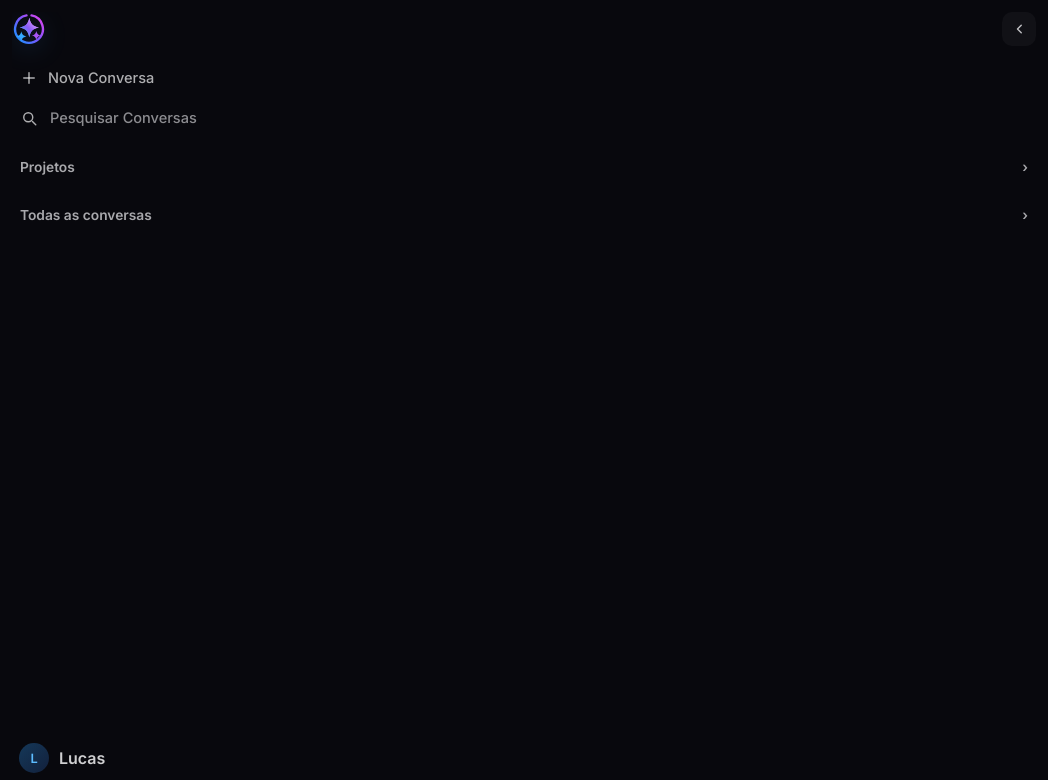
Test: SessionsPanel › abre menu do usuário com itens esperados e fecha por Esc e click outside
Click the button with aria-label "Menu do usuário": (82,758) [12,736,1026,779]
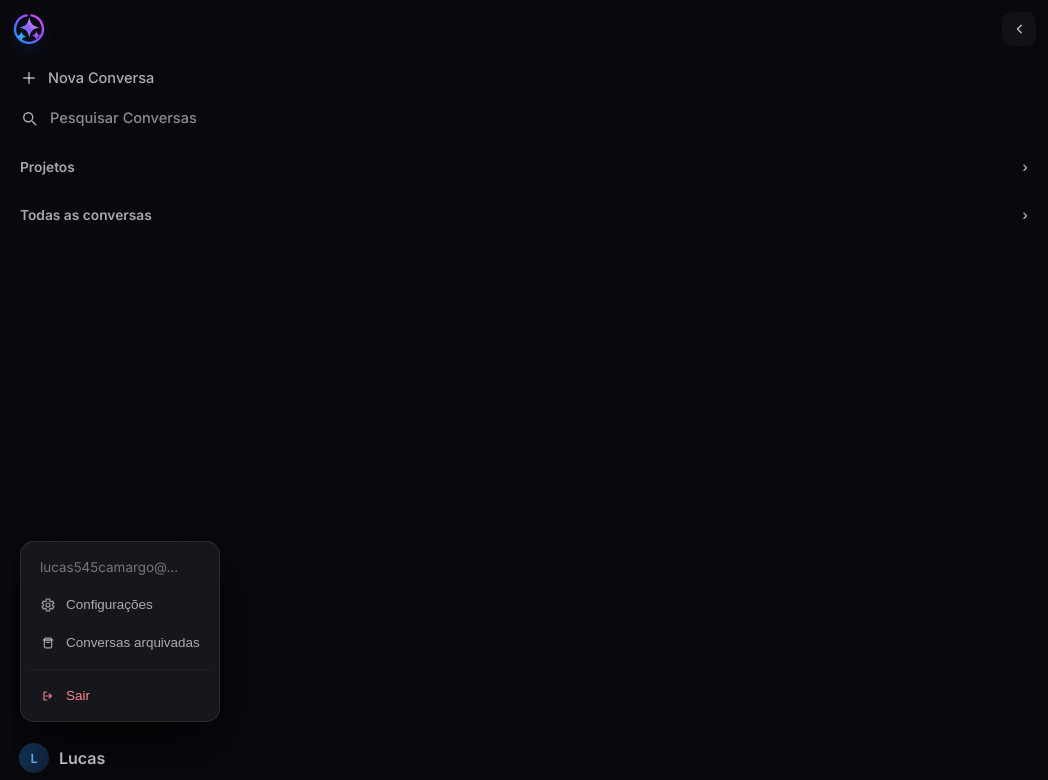
Check: the text "lucas545camargo@..." is shown, box [40,559,178,575]
Check: the button "Configurações" is shown, box [28,587,212,623]
Check: the button "Conversas arquivadas" is shown, box [28,625,212,661]
Press Escape
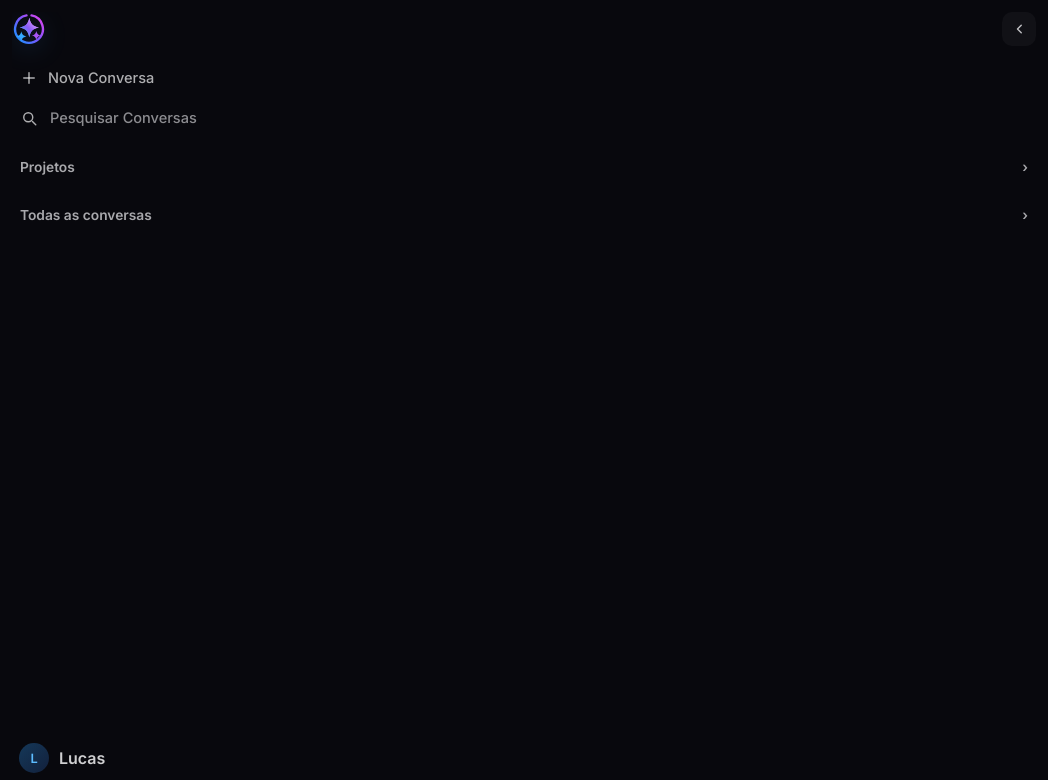
Check: the text "lucas545camargo@..." is gone
Click the button with aria-label "Menu do usuário": (82,758) [12,736,1026,779]
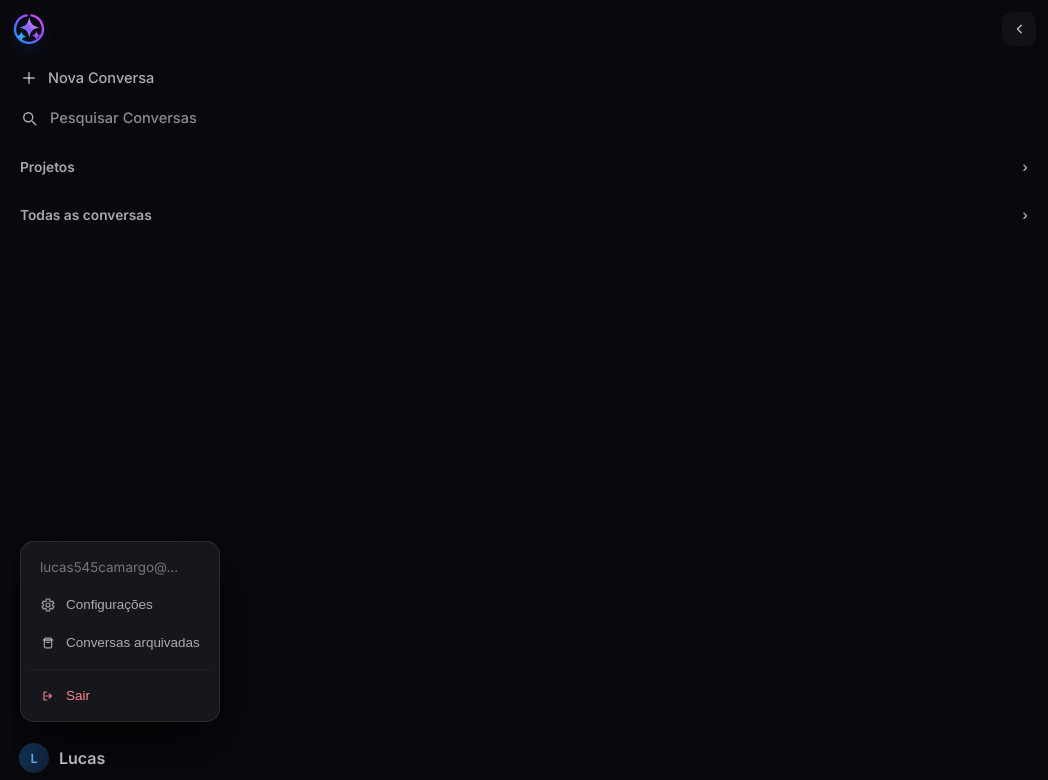
Check: the text "lucas545camargo@..." is shown, box [40,559,178,575]
Press the mouse on the element that starts with "Nova Conversa": (524,396) [12,12,1036,779]
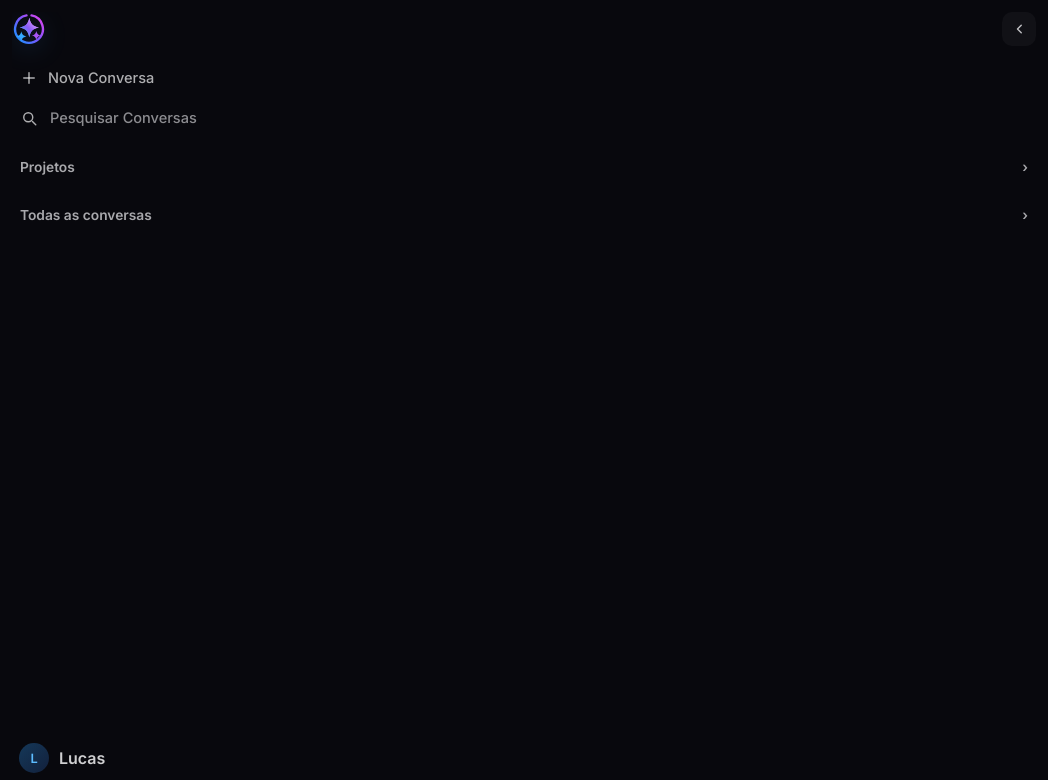
Check: the text "lucas545camargo@..." is gone
